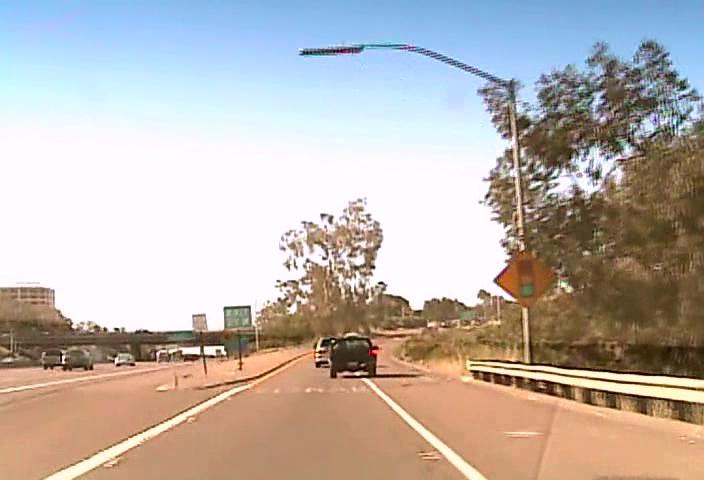signalAhead: (492, 248, 557, 307)
